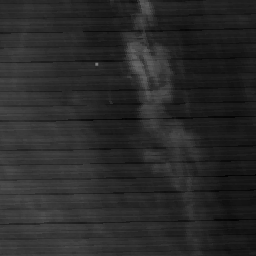Target: (93, 61, 100, 67)
